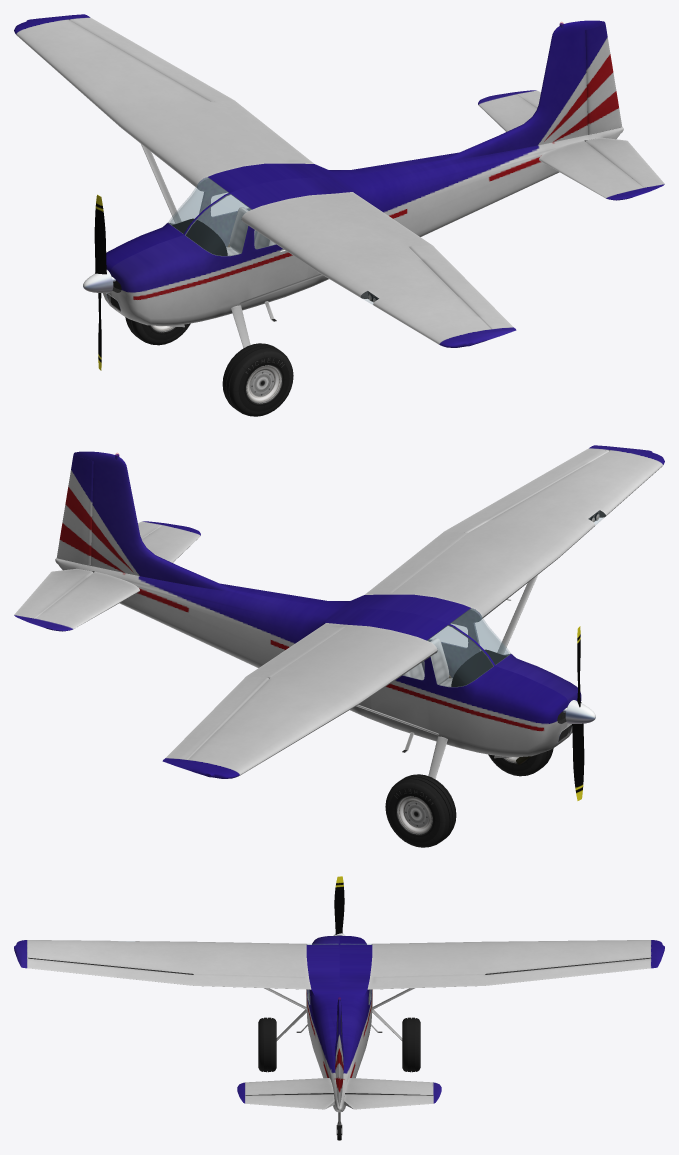
Rendered from cessna_bush_5mb_blender_CDA2.glb.
3 renders of one model, top to bottom at view 1: azimuth 30°, elevation 25°; view 2: azimuth 150°, elevation 25°; view 3: azimuth 270°, elevation 25°, orthographic. The views are drawn at different scales.
Parts seen in each view (by area): view 1: Object_23, Object_24, Object_26, Propellor, Object_20, Object_28, Object_21, Object_17; view 2: Object_23, Object_24, Object_26, Propellor, Object_20, Object_28, Object_21, Object_17; view 3: Object_23, Object_24, Propellor.
Part boxes in pixels (left/top/right/bottom): Object_23: left=14, top=14, right=622, bottom=416; Object_24: left=102, top=20, right=664, bottom=325; Object_26: left=168, top=22, right=562, bottom=304; Propellor: left=83, top=194, right=113, bottom=370; Object_20: left=168, top=177, right=276, bottom=256; Object_28: left=170, top=187, right=249, bottom=224; Object_21: left=172, top=218, right=227, bottom=255; Object_17: left=226, top=207, right=275, bottom=255; Object_23: left=56, top=445, right=664, bottom=847; Object_24: left=14, top=451, right=581, bottom=756; Object_26: left=116, top=453, right=605, bottom=686; Propellor: left=565, top=626, right=595, bottom=800; Object_20: left=402, top=608, right=510, bottom=687; Object_28: left=429, top=618, right=508, bottom=655; Object_21: left=451, top=649, right=506, bottom=686; Object_17: left=403, top=638, right=452, bottom=686; Object_23: left=14, top=940, right=664, bottom=1140; Object_24: left=237, top=935, right=441, bottom=1134; Propellor: left=333, top=876, right=345, bottom=935.
Size of what is drawn, in the model's own units: 7.87 by 3.66 by 10.87.
25 materials, 24 textured.
